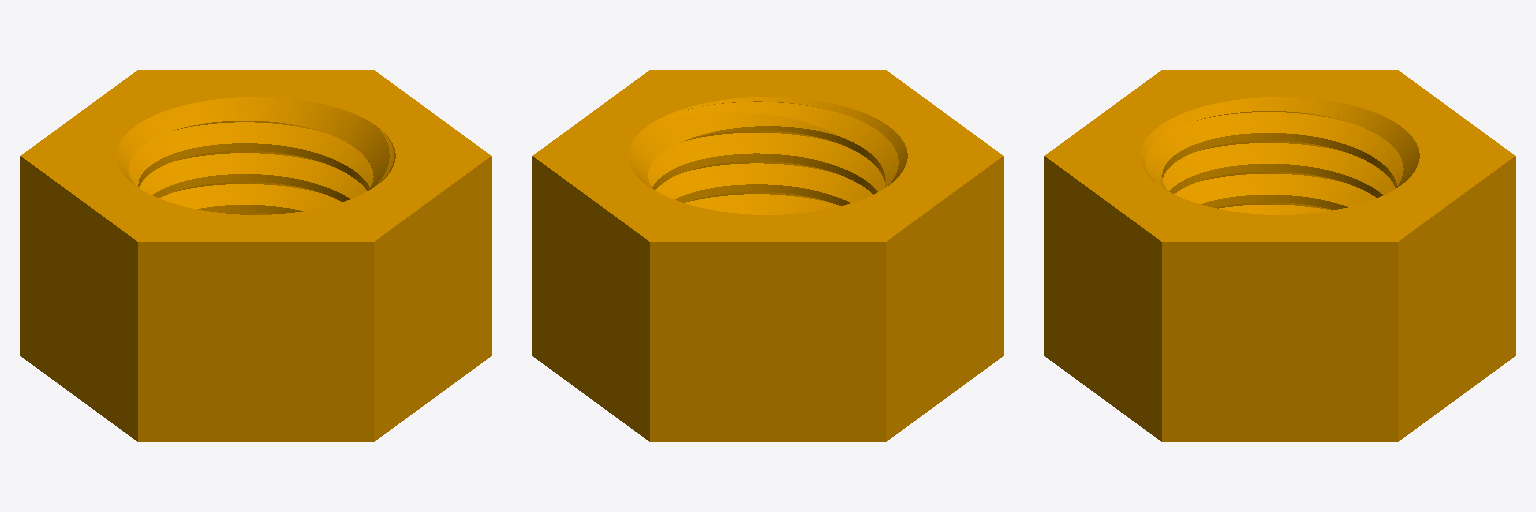
The robot description file, URDF, robot "factory_nut_m16_tight":
<?xml version="1.0"?>
<robot name="factory_nut_m16_tight">
    <link name="factory_nut_m16_tight">
        <visual>
            <geometry>
                <mesh filename="../mesh/factory_nut_bolt/factory_nut_m16_tight_subdiv_3x.obj"/>
            </geometry>
        </visual>
        <collision>
            <geometry>
                <mesh filename="../mesh/factory_nut_bolt/factory_nut_m16_tight_subdiv_3x.obj"/>
            </geometry>
            <sdf resolution="256"/>
        </collision>
    </link>
</robot>

--- Render facts (derived) ---
3 views of the same robot in one strip: view 1: azimuth 30°, elevation 25°; view 2: azimuth 150°, elevation 25°; view 3: azimuth 270°, elevation 25° (orthographic).
Model factory_nut_m16_tight with 1 links and 0 joints (none), rooted at factory_nut_m16_tight, posed every joint at zero.
Links seen in each view (by area): view 1: factory_nut_m16_tight; view 2: factory_nut_m16_tight; view 3: factory_nut_m16_tight.
Link boxes in pixels (bbox=[...]): factory_nut_m16_tight: bbox=[20, 70, 491, 441]; factory_nut_m16_tight: bbox=[532, 70, 1003, 441]; factory_nut_m16_tight: bbox=[1044, 70, 1515, 441].
Size in the robot's own frame: 0.024 by 0.0277 by 0.013 metres.
1 mesh visuals loaded from 1 distinct referenced files (1 OBJ).